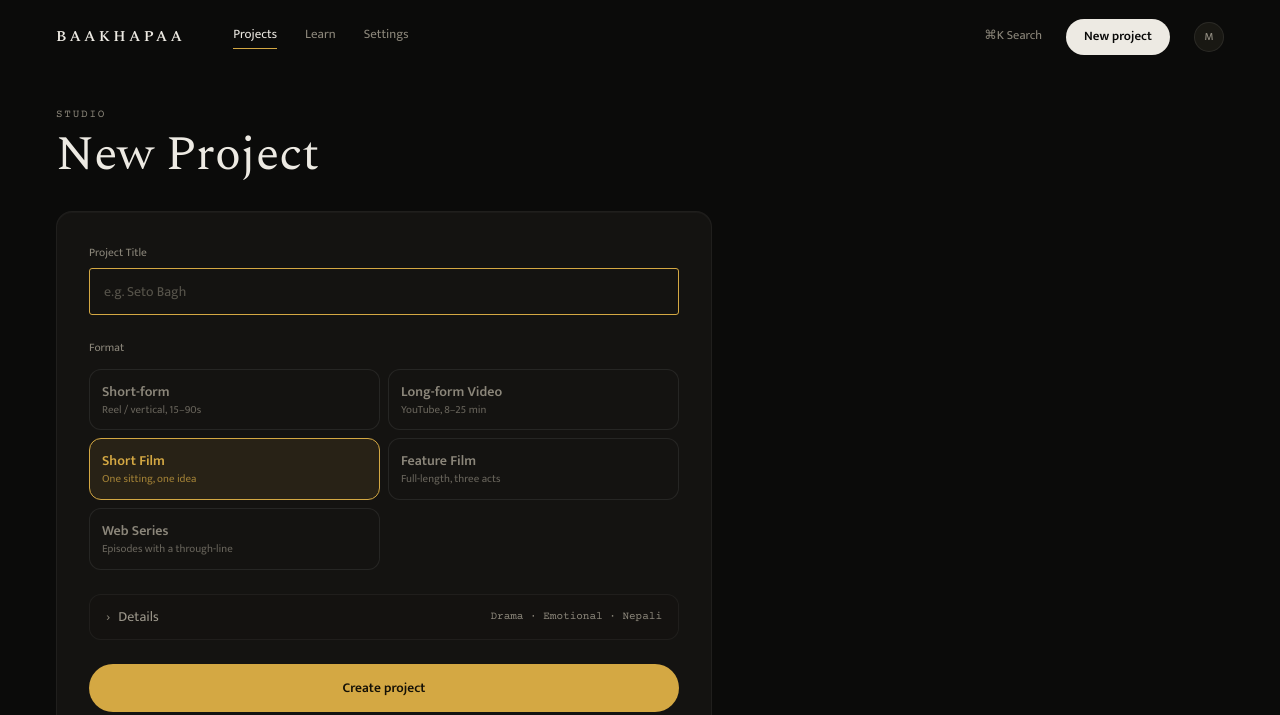
Scenario: the details are one click away, not gone
The image size is (1280, 715).
Click the text "Details" at {"x": 138, "y": 617}, box [118,607,159,627]
(page scrolled)
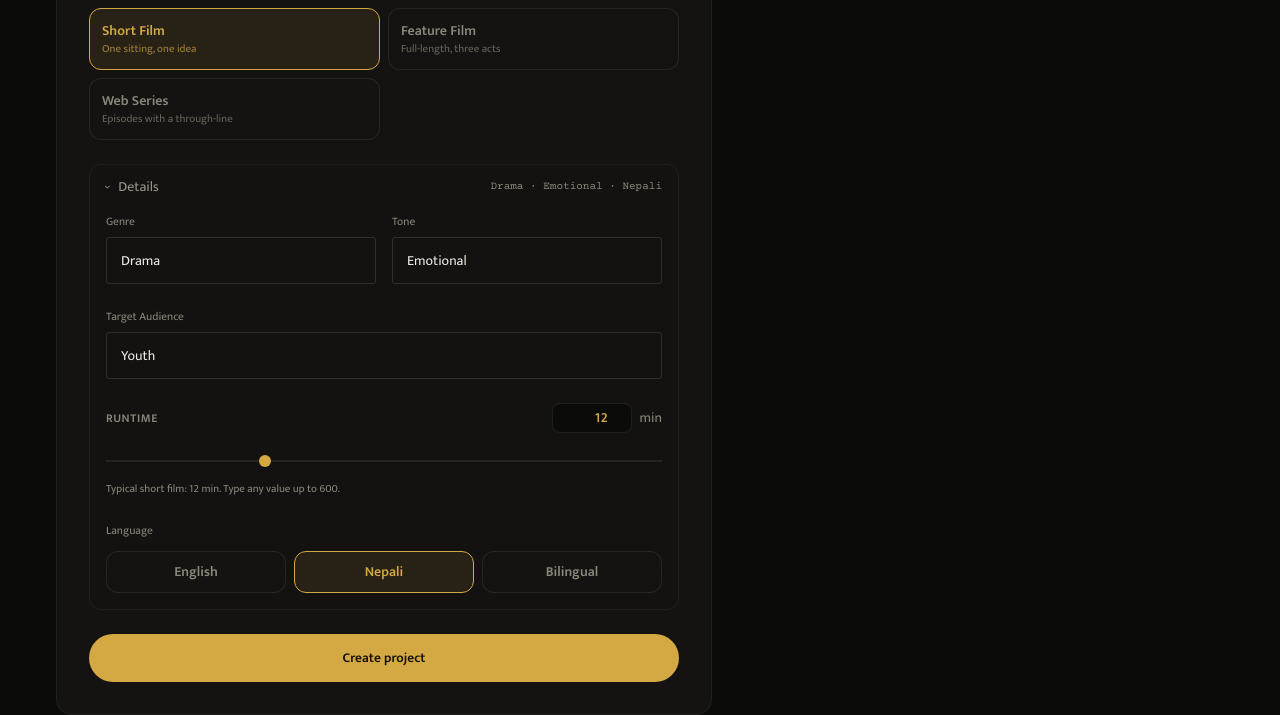
Result: the field labelled "Genre" is shown at [106,237,376,284]
Result: the field labelled "Target Audience" is shown at [106,332,662,379]
